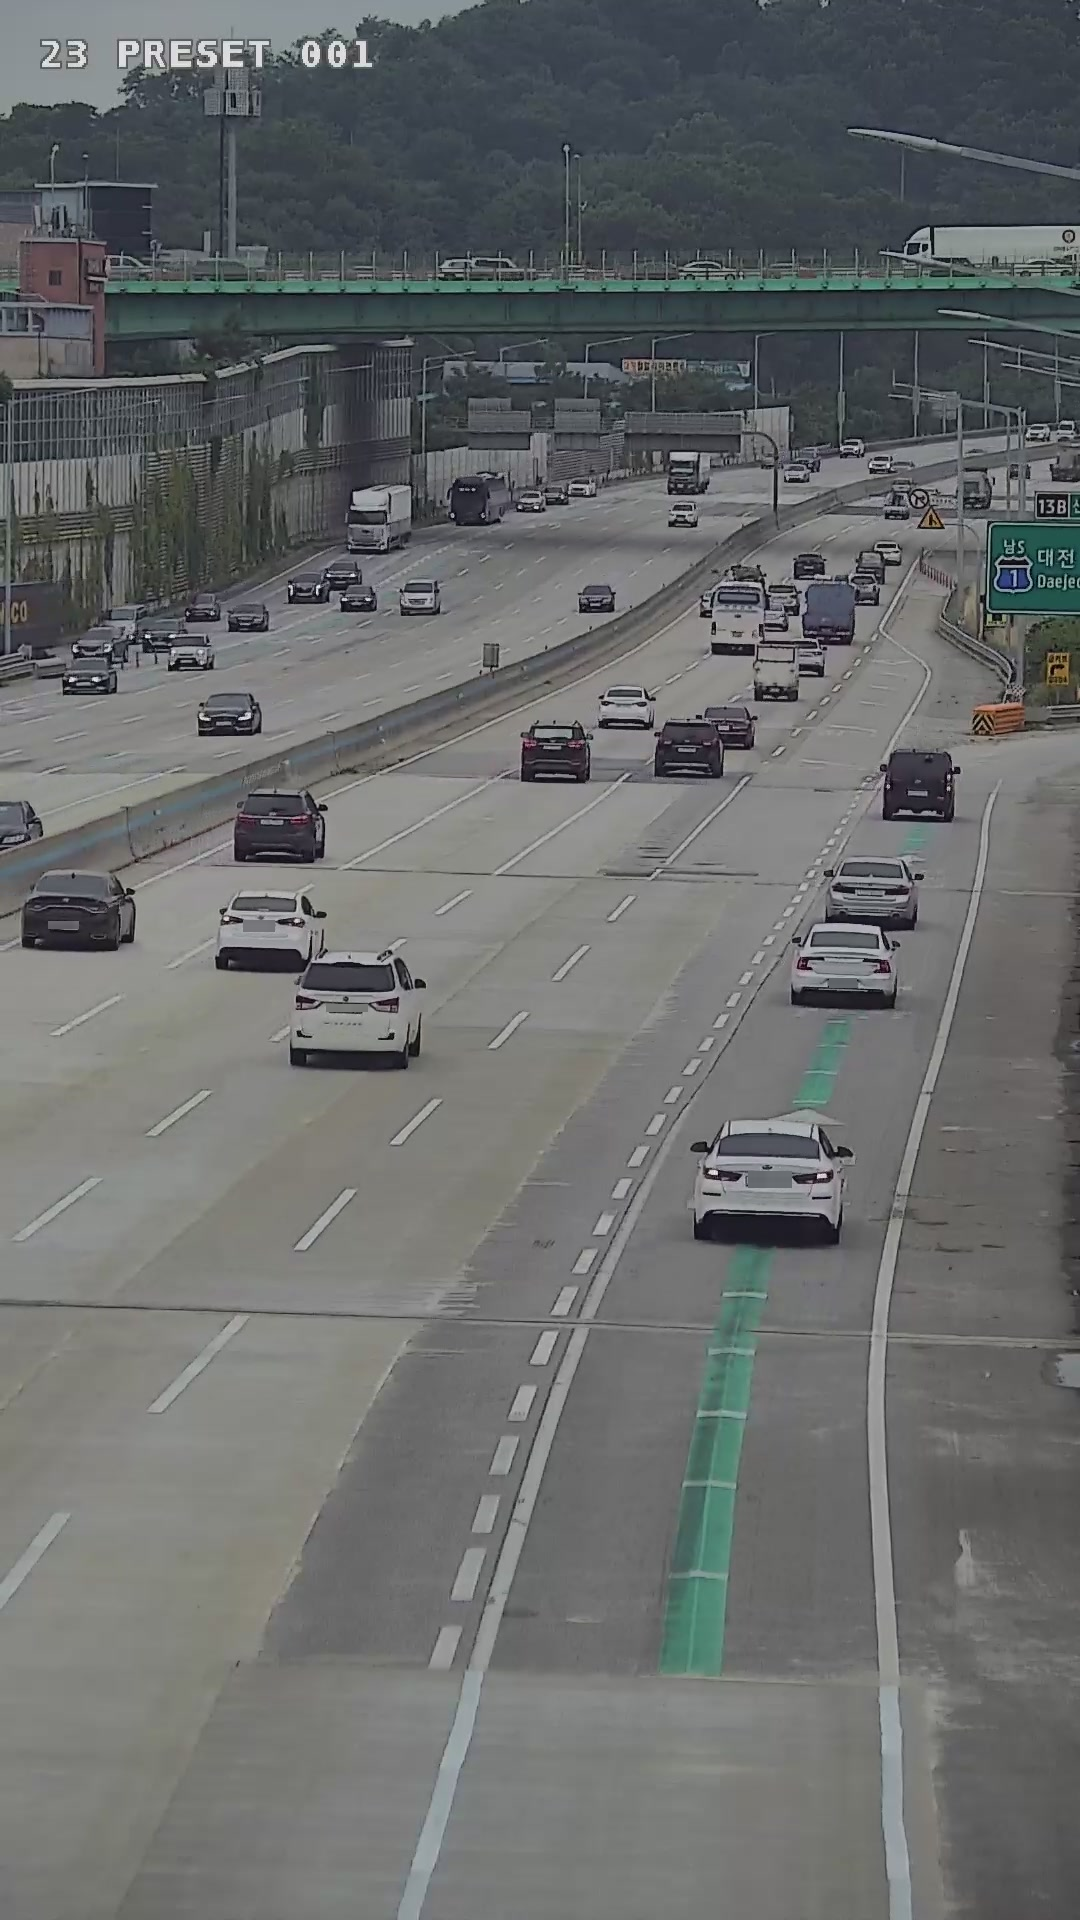Scissors: (691, 1122, 856, 1246)
